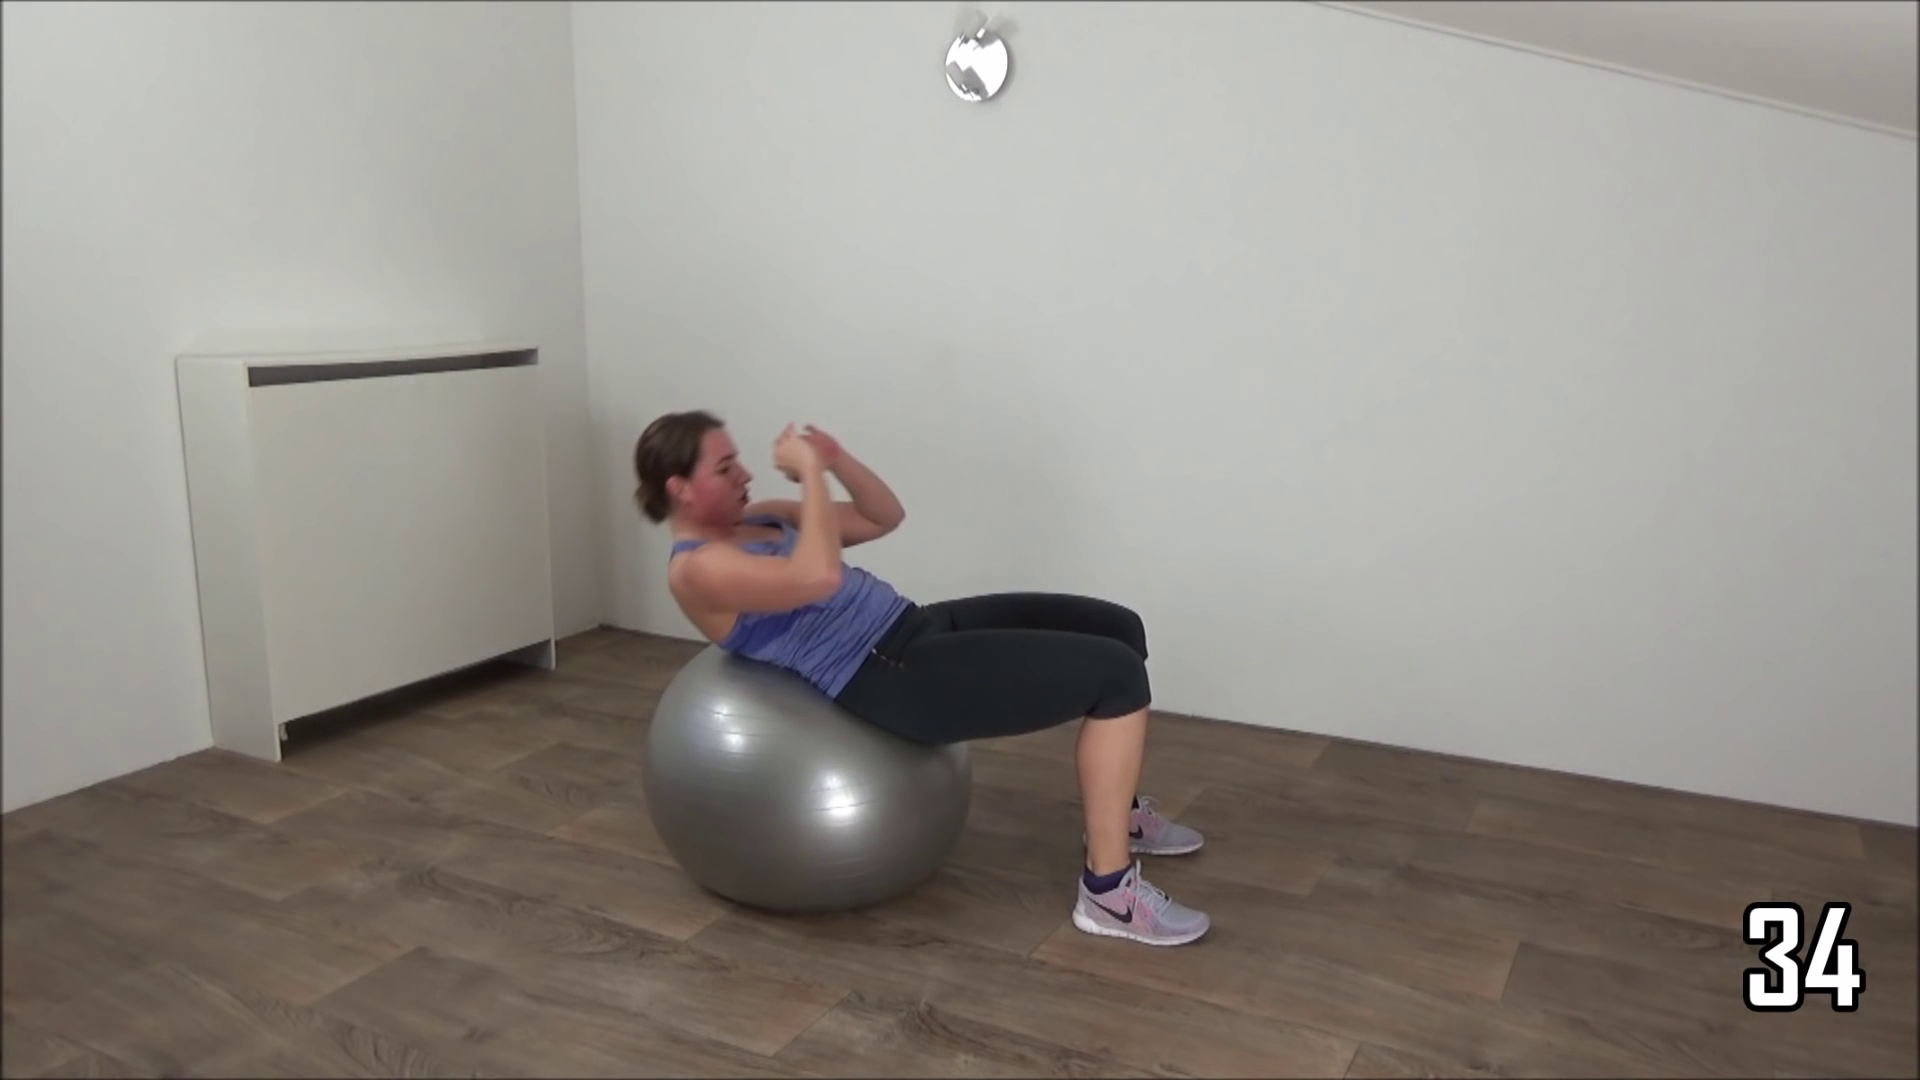yogaball: (624, 624, 1014, 922)
